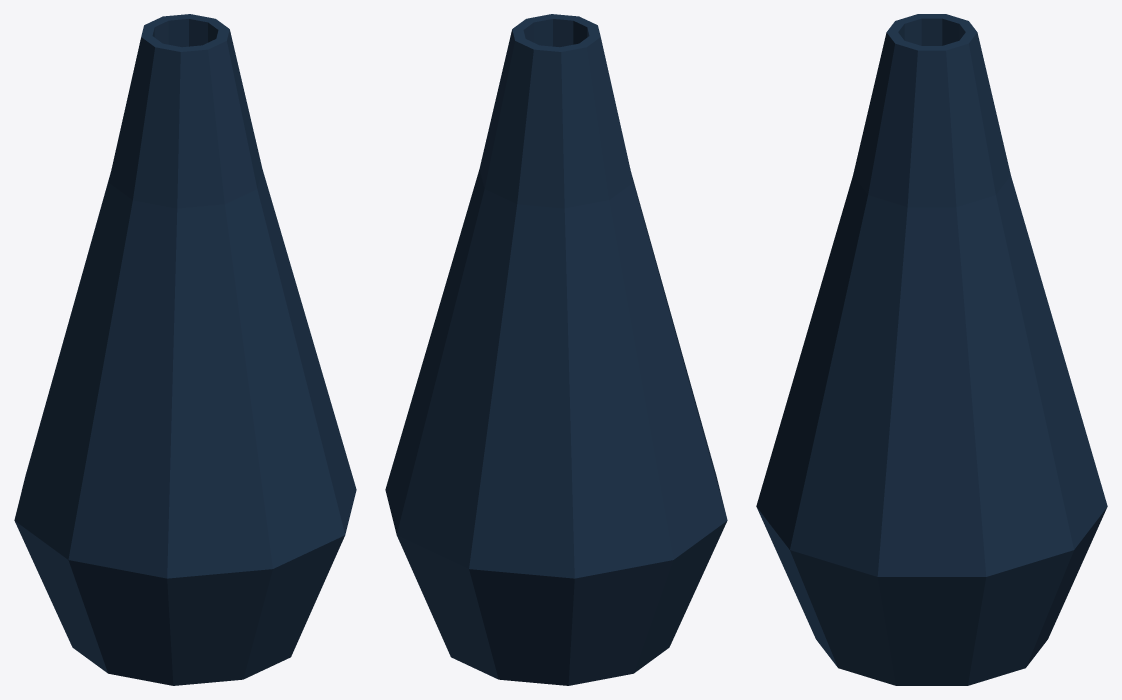
The model's file is decoration_1.fbx.
3 renders of one model, left to right at view 1: azimuth 30°, elevation 25°; view 2: azimuth 150°, elevation 25°; view 3: azimuth 270°, elevation 25°, orthographic.
Parts seen in each view (by area): view 1: decoration_2; view 2: decoration_2; view 3: decoration_2.
Boxes of the visible parts, x1,y1,x2,y2 form: decoration_2: (14,14,356,685); decoration_2: (385,14,727,685); decoration_2: (756,14,1107,685).
Bounding box in the file's own units: 582 × 1165 × 611.
